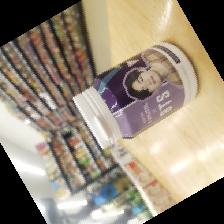Xylitol_BTS: (72, 40, 199, 154)
